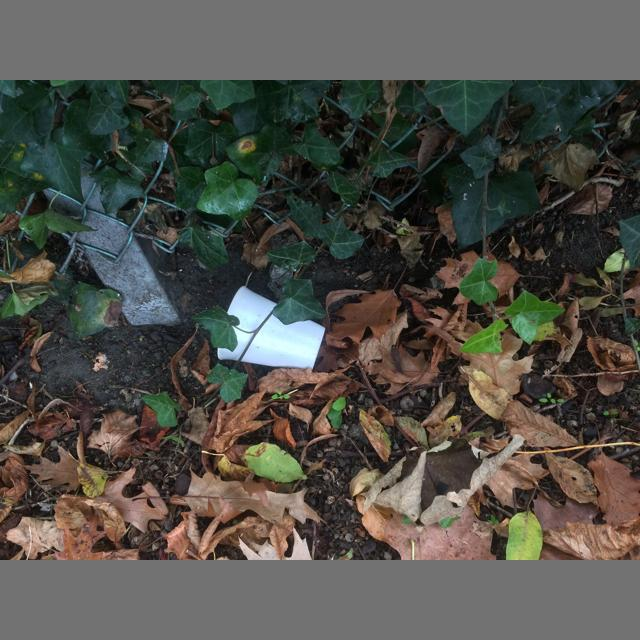litter: (218, 286, 325, 371)
